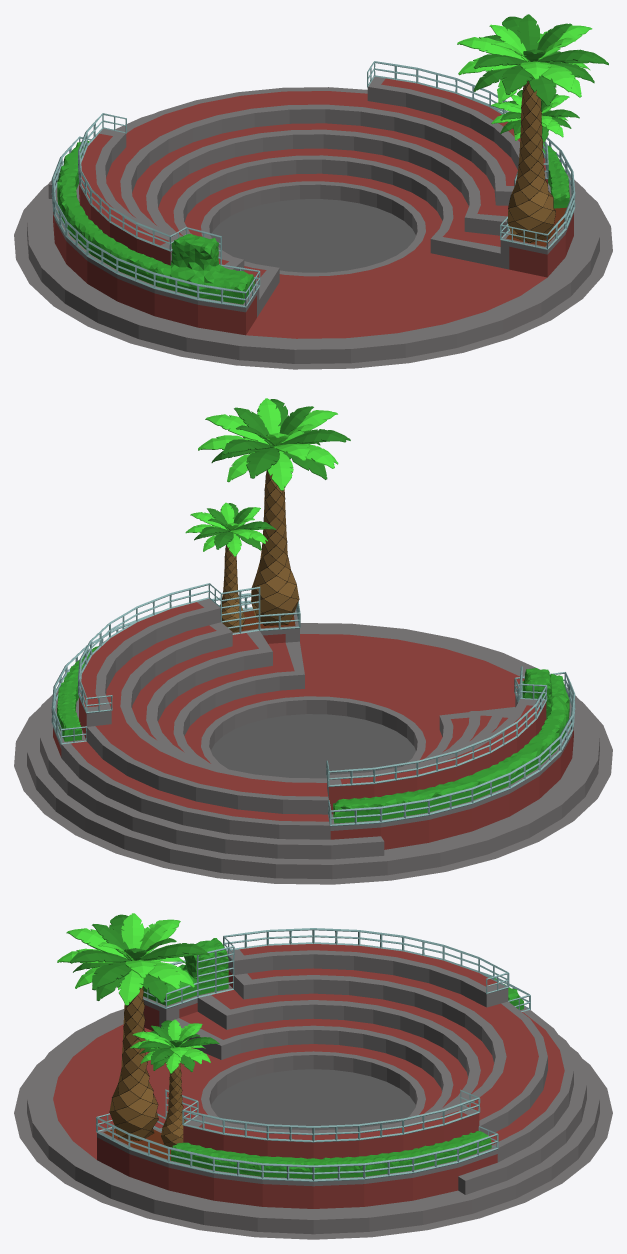
The model's file is ROTONDA.fbx.
3 views of the same model, one above another, from view 1: azimuth 30°, elevation 25°; view 2: azimuth 150°, elevation 25°; view 3: azimuth 270°, elevation 25° (orthographic).
Visible parts, largest first — view 1: Círculo.009, Círculo.002, Círculo.001, Círculo.004, Círculo.003, palmera.021, palmera.008, palmera.003, palmera.011, palmera, palmera.015, palmera.006; view 2: Círculo.009, Círculo.001, Círculo.002, Círculo.004, Círculo.003, Círculo.005, palmera.005, palmera.010; view 3: Círculo.009, Círculo.001, Círculo.003, Círculo.004, Círculo.002, Círculo.005, palmera.001, palmera.024, palmera.009, palmera.007, palmera.011, palmera.018 (+3 smaller).
Part boxes in pixels (x1,y1,x2,y2): Círculo.009: [14, 76, 612, 369]; Círculo.002: [57, 140, 254, 304]; Círculo.001: [51, 61, 575, 307]; Círculo.004: [507, 81, 555, 242]; Círculo.003: [542, 143, 569, 208]; palmera.021: [517, 14, 539, 50]; palmera.008: [457, 37, 525, 60]; palmera.003: [502, 64, 533, 94]; palmera.011: [536, 49, 597, 63]; palmera: [541, 64, 574, 92]; palmera.015: [529, 76, 556, 106]; palmera.006: [473, 54, 527, 68]; Círculo.009: [14, 598, 612, 884]; Círculo.001: [51, 583, 575, 826]; Círculo.002: [333, 668, 569, 823]; Círculo.004: [251, 470, 299, 625]; Círculo.003: [57, 646, 98, 741]; Círculo.005: [220, 545, 245, 632]; palmera.005: [246, 447, 279, 478]; palmera.010: [205, 414, 269, 444]; Círculo.009: [14, 944, 612, 1239]; Círculo.001: [96, 928, 530, 1181]; Círculo.003: [171, 1131, 491, 1178]; Círculo.004: [109, 987, 158, 1140]; Círculo.002: [143, 938, 523, 1009]; Círculo.005: [161, 1063, 185, 1147]; palmera.001: [92, 962, 131, 990]; palmera.024: [121, 913, 144, 948]; palmera.009: [139, 943, 207, 960]; palmera.007: [66, 928, 127, 958]; palmera.011: [69, 950, 130, 963]; palmera.018: [118, 970, 143, 1005].
Size of the model in its own units: 11500 by 5146 by 11500.
